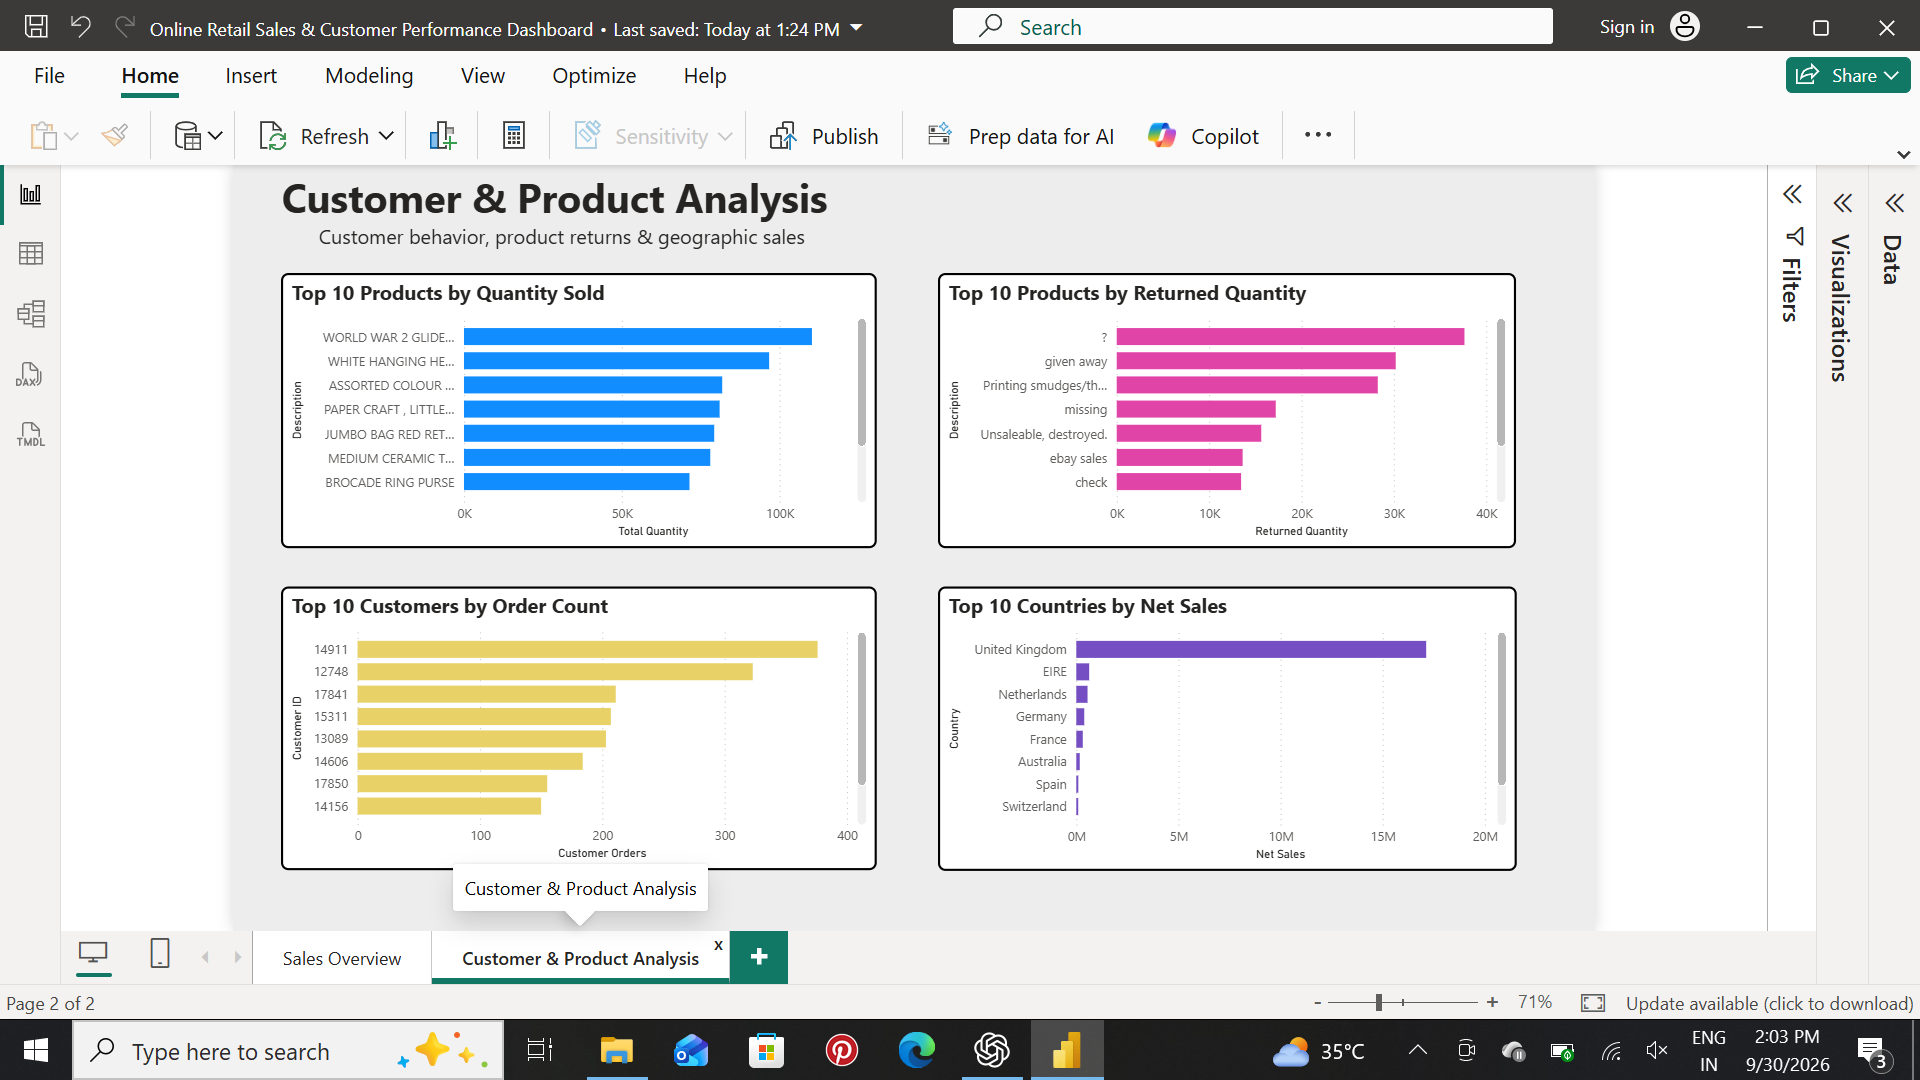

The dashboard page shown, as its layout file describes it:
{"tool":"powerbi","page":{"name":"Customer & Product Analysis","canvas":[1280,720],"ordinal":1},"visuals":[{"type":"textbox","box":[9.4,0,729.9,90.7],"z":0},{"type":"clusteredBarChart","title":"Top 10 Products by Quantity Sold","fields":{"Category":["Online_Retail.Description"],"Y":["Online_Retail.Total Quantity"]},"box":[45,101.7,560,258.3],"z":1000},{"type":"clusteredBarChart","title":"Top 10 Customers by Order Count","fields":{"Category":["Online_Retail.Customer ID"],"Y":["Online_Retail.Customer Orders"]},"box":[45,396.7,560,266.7],"z":2000},{"type":"clusteredBarChart","title":"Top 10 Products by Returned Quantity","fields":{"Category":["Online_Retail.Description"],"Y":["Online_Retail.Returned Quantity"]},"box":[663.3,101.7,543.3,258.3],"z":3000},{"type":"clusteredBarChart","title":"Top 10 Countries by Net Sales","fields":{"Category":["Online_Retail.Country"],"Y":["Online_Retail.Net Sales"]},"box":[663.3,396.1,544,267.2],"z":4000}]}

Visuals, with their boxes on the page's 1280x720 design canvas (x1, y1, x2, y2). These are canvas units, not pixel positions in the 1920x1080 screenshot, which may show the page scaled, cropped or inside an application window:
textbox: (9,0,739,91)
"Top 10 Products by Quantity Sold" clusteredBarChart: (45,102,605,360)
"Top 10 Customers by Order Count" clusteredBarChart: (45,397,605,663)
"Top 10 Products by Returned Quantity" clusteredBarChart: (663,102,1207,360)
"Top 10 Countries by Net Sales" clusteredBarChart: (663,396,1207,663)
